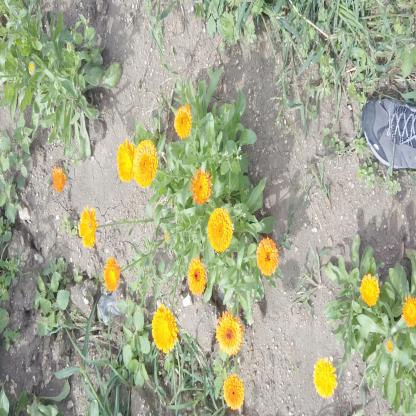marigold: (151, 306, 177, 352), (134, 140, 157, 186), (208, 208, 232, 252), (217, 313, 242, 355), (314, 357, 338, 399), (257, 238, 278, 276), (117, 141, 135, 183), (80, 208, 98, 246), (188, 258, 205, 296), (224, 375, 243, 409), (104, 257, 120, 292), (362, 274, 378, 306), (176, 108, 191, 138)
